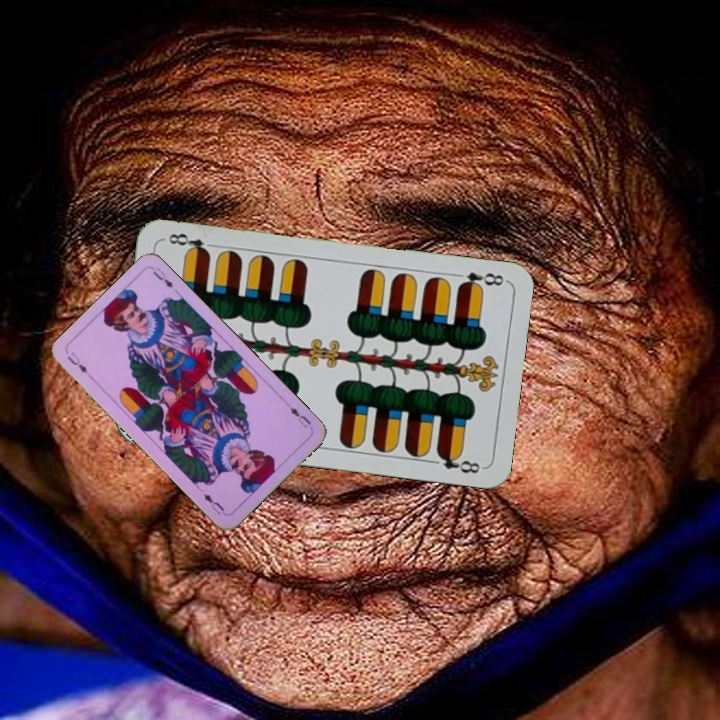E8: (454, 268, 508, 293)
EU: (286, 403, 313, 431), (63, 348, 90, 376)
